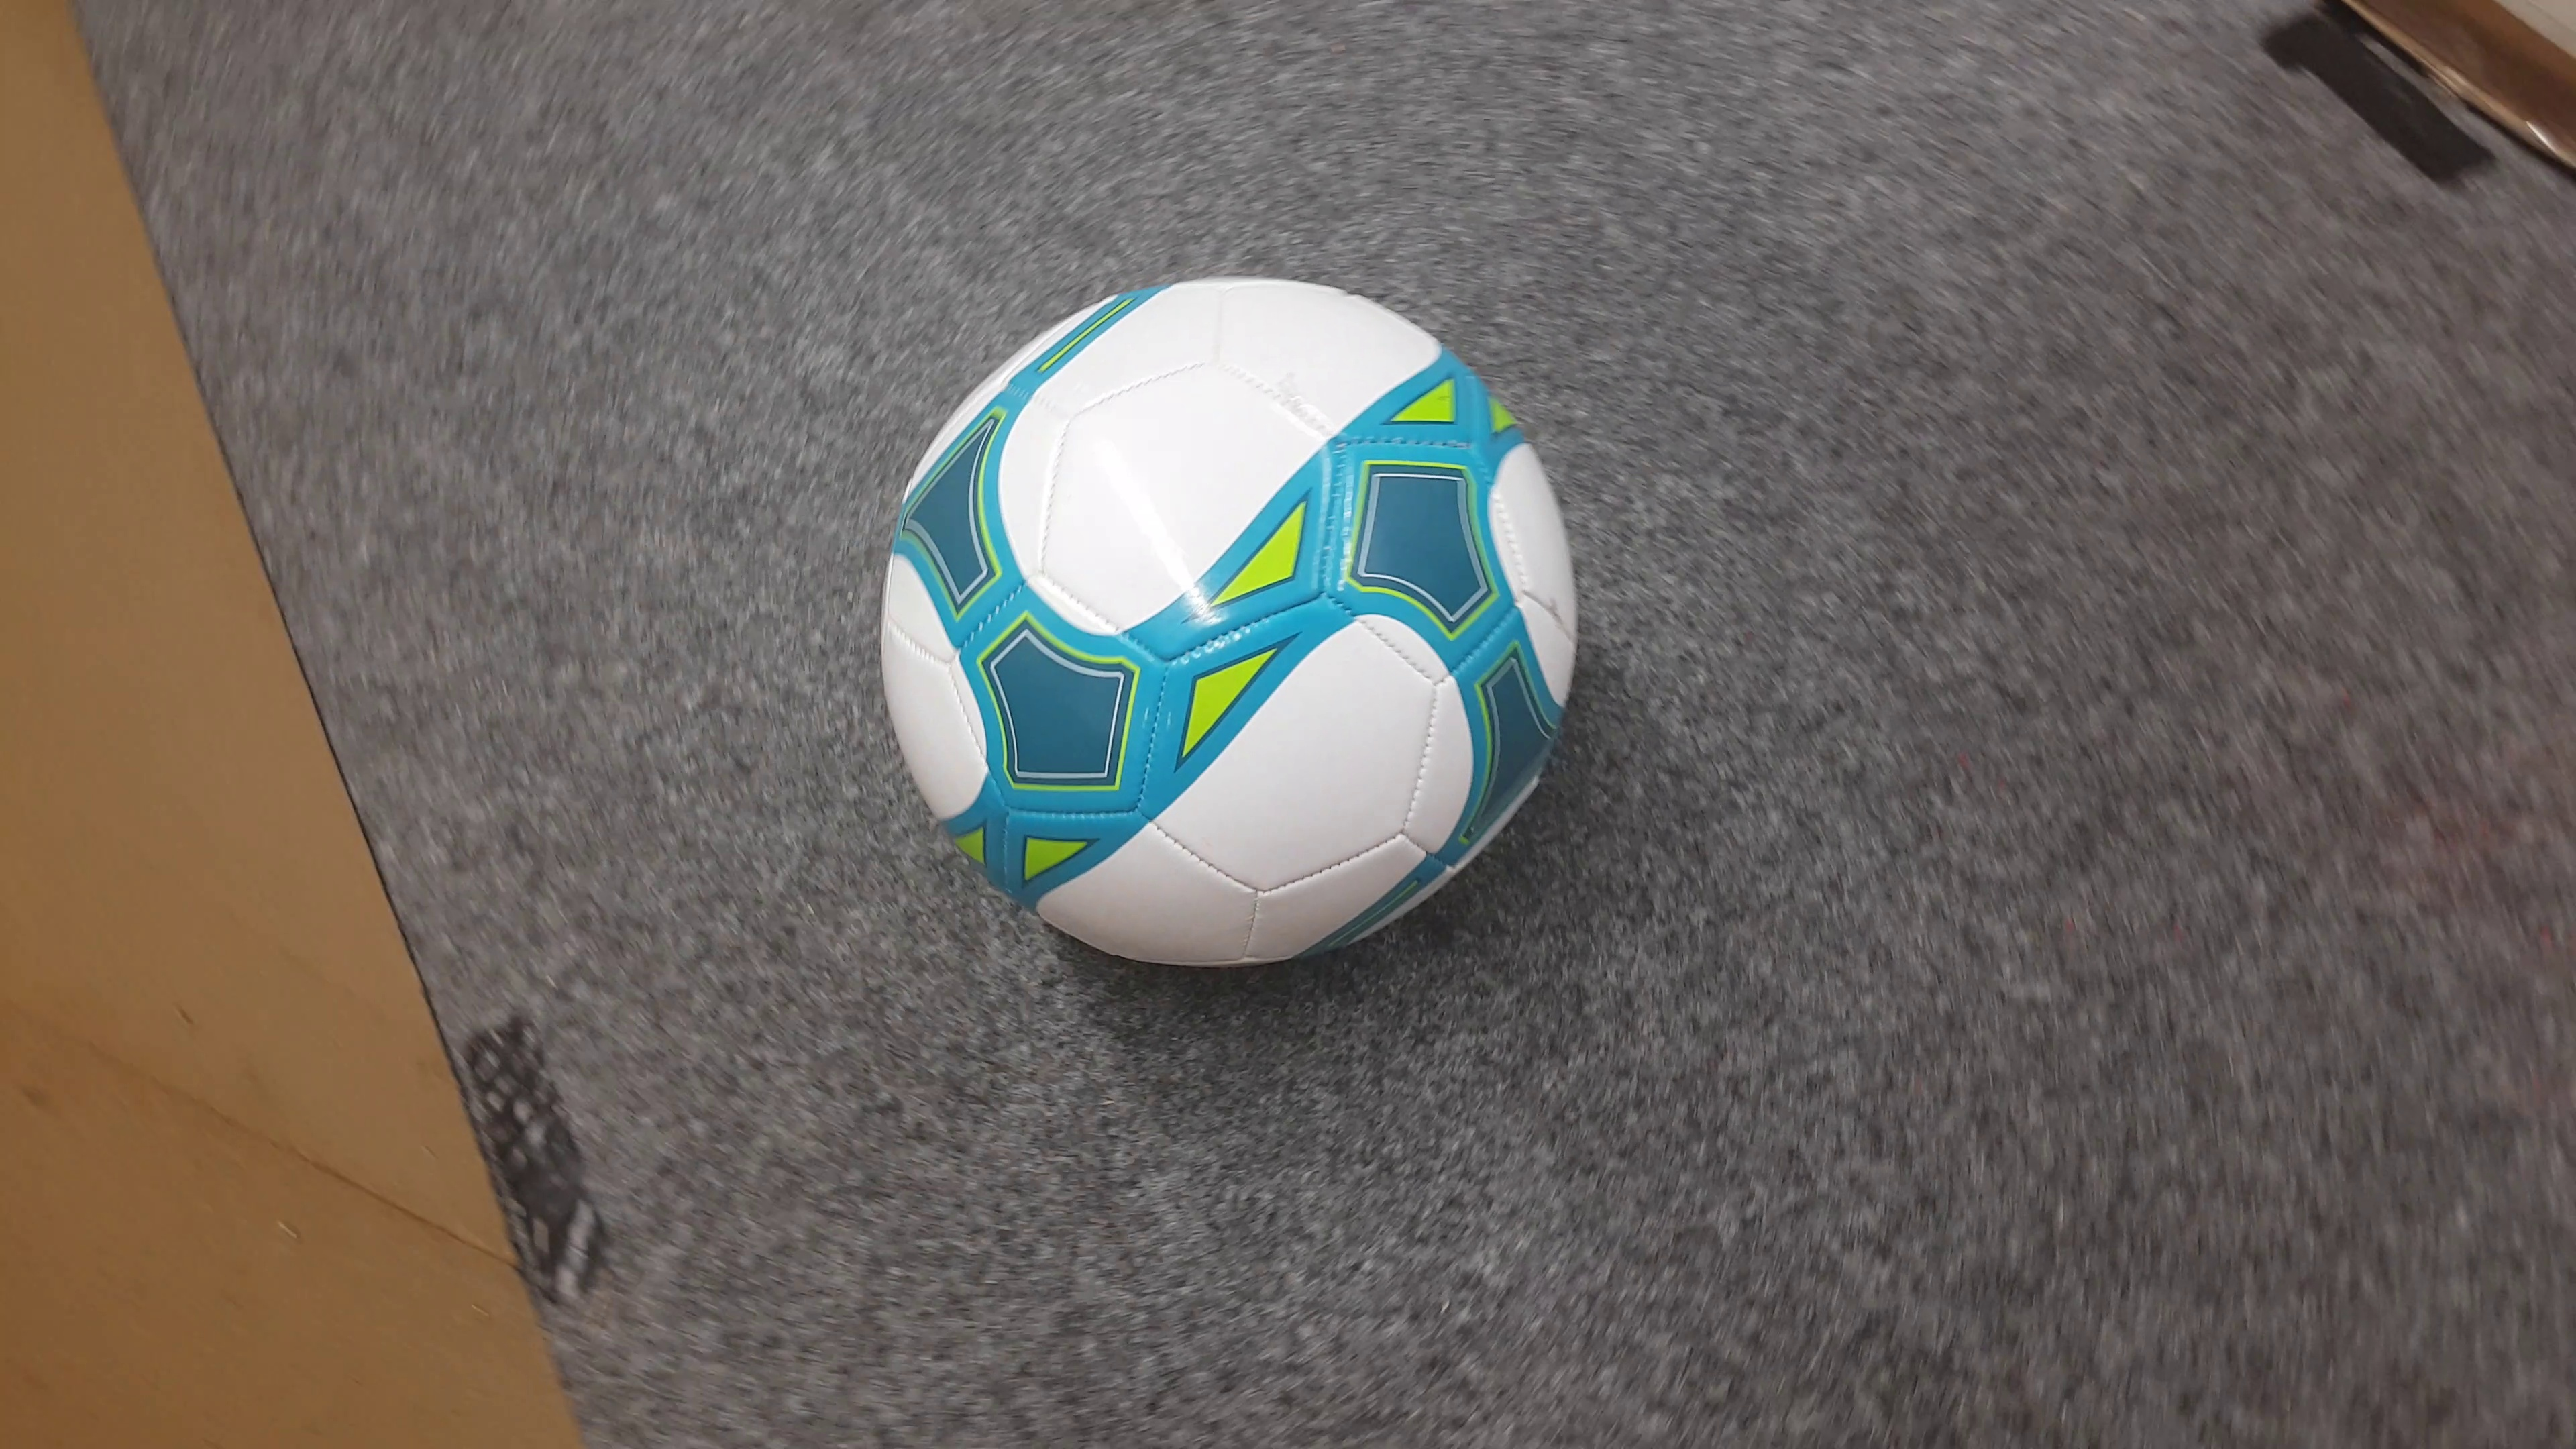kick: (876, 280, 1589, 961)
